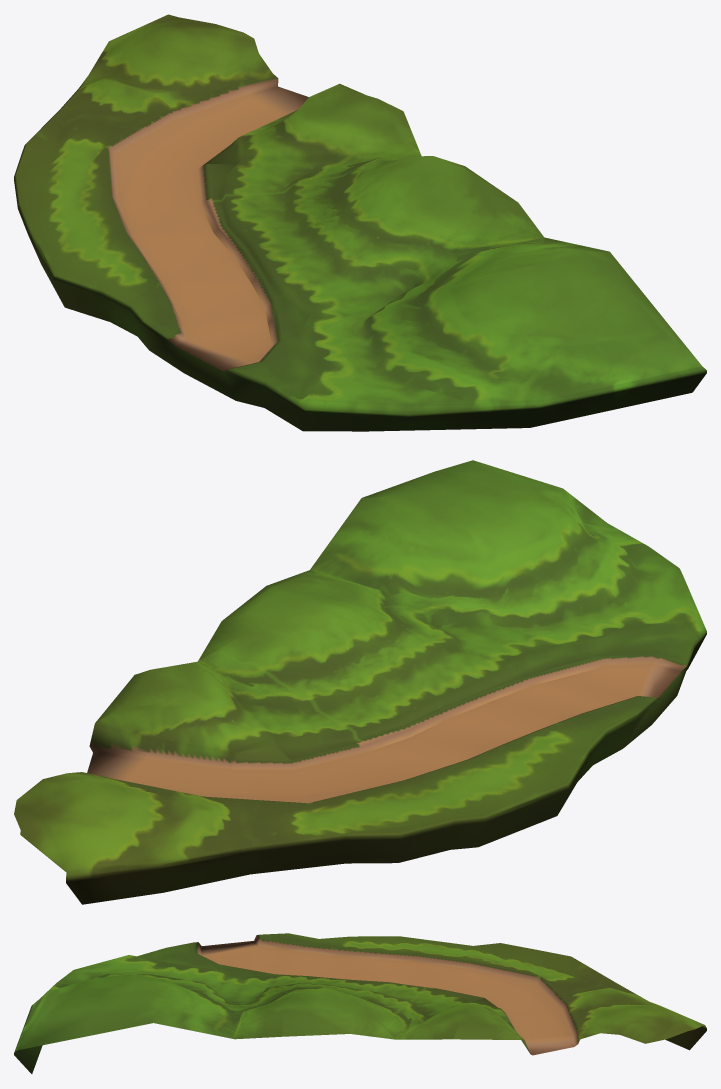
The model's file is SM_Platform_Portal_03.fbx.
The picture shows the model from 3 angles, top to bottom: view 1: azimuth 30°, elevation 25°; view 2: azimuth 150°, elevation 25°; view 3: azimuth 270°, elevation 25°; orthographic projection. The views are drawn at different scales.
Parts seen in each view (by area): view 1: SM_Platform_Portal_04; view 2: SM_Platform_Portal_04; view 3: SM_Platform_Portal_04.
Part boxes in pixels (left/top/right/bottom): SM_Platform_Portal_04: left=14, top=14, right=706, bottom=431; SM_Platform_Portal_04: left=14, top=460, right=706, bottom=904; SM_Platform_Portal_04: left=14, top=933, right=706, bottom=1073.
Bounding box in the file's own units: 1488 × 387 × 3295.
